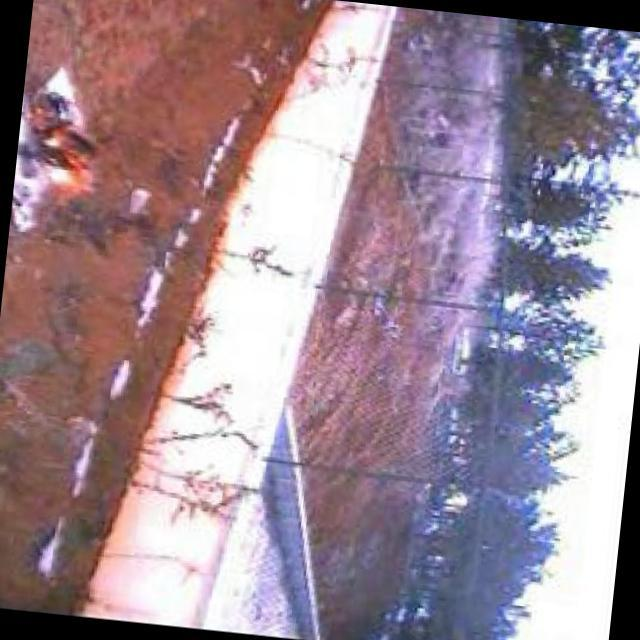Fire: (11, 87, 115, 221)
